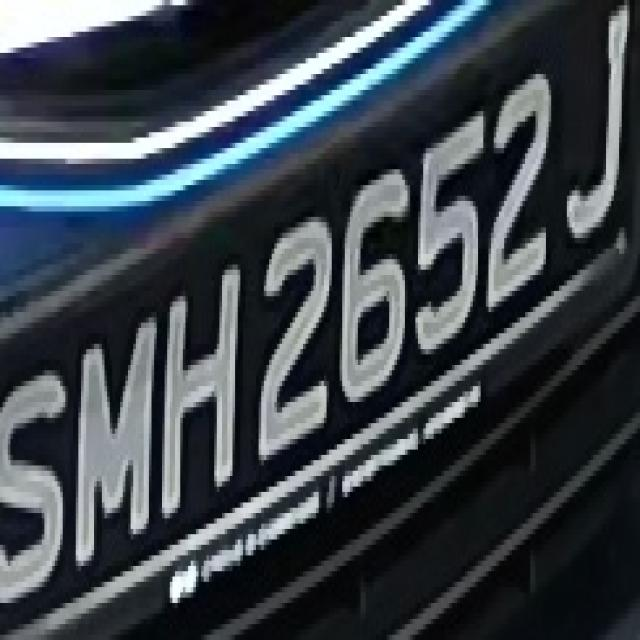2: (258, 190, 334, 498), (489, 85, 559, 302)
5: (418, 106, 486, 365)
6: (342, 143, 416, 423)
H: (162, 243, 246, 513)
J: (559, 27, 632, 244)
M: (76, 296, 162, 561)
S: (8, 344, 73, 614)
